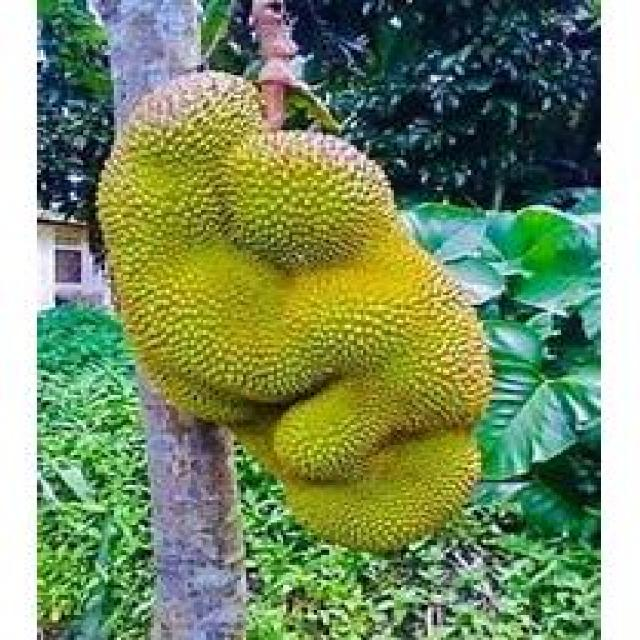Fruit: (77, 58, 489, 450), (218, 310, 532, 578)
